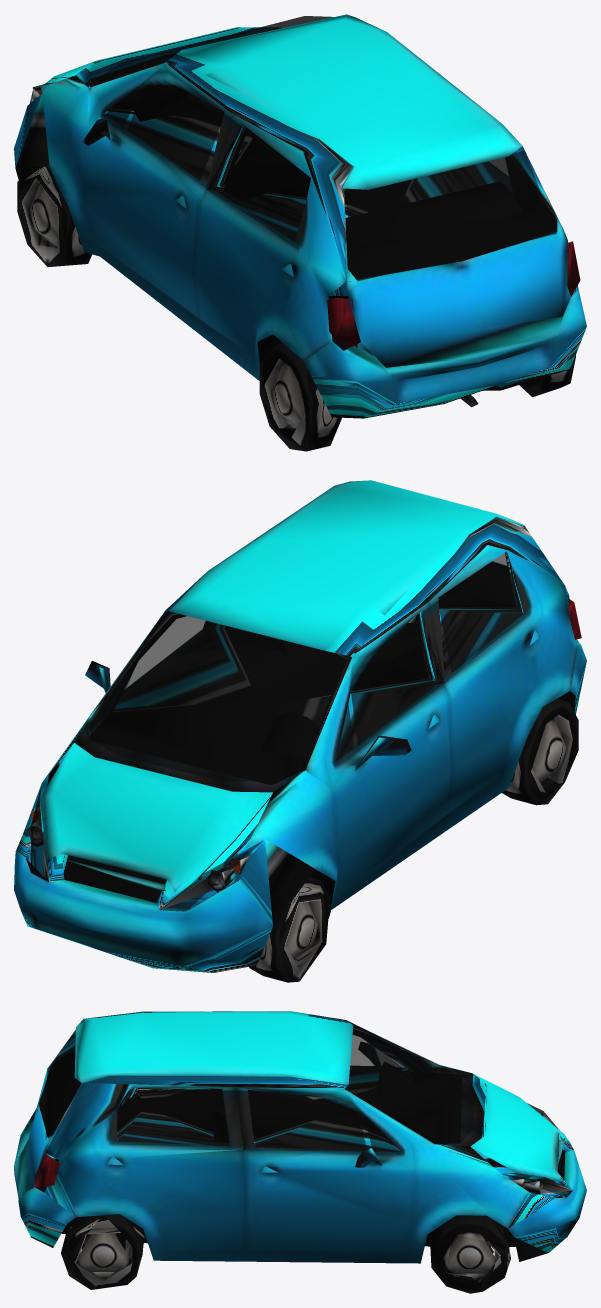
File: c_compact_lo.glb
3 renders of one model, top to bottom at view 1: azimuth 30°, elevation 25°; view 2: azimuth 150°, elevation 25°; view 3: azimuth 270°, elevation 25°, orthographic. The views are drawn at different scales.
Visible parts, largest first — view 1: body|Body, body|glass, body|Wheel, body|Optics; view 2: body|Body, body|glass, body|Wheel, body|Optics; view 3: body|Body, body|glass, body|Wheel, body|Optics.
Part boxes in pixels (left/top/right/bottom): body|Body: left=14, top=14, right=586, bottom=418; body|glass: left=32, top=16, right=556, bottom=280; body|Wheel: left=17, top=166, right=575, bottom=451; body|Optics: left=30, top=87, right=580, bottom=347; body|Body: left=14, top=480, right=586, bottom=972; body|glass: left=31, top=553, right=522, bottom=911; body|Wheel: left=249, top=698, right=578, bottom=982; body|Optics: left=28, top=599, right=581, bottom=891; body|Body: left=14, top=1011, right=586, bottom=1263; body|glass: left=45, top=1021, right=572, bottom=1197; body|Wheel: left=61, top=1214, right=510, bottom=1293; body|Optics: left=34, top=1112, right=543, bottom=1194.
Size of the model in its own units: 1.59 by 1.31 by 3.26.
Materials: 4 (3 with a texture image).
